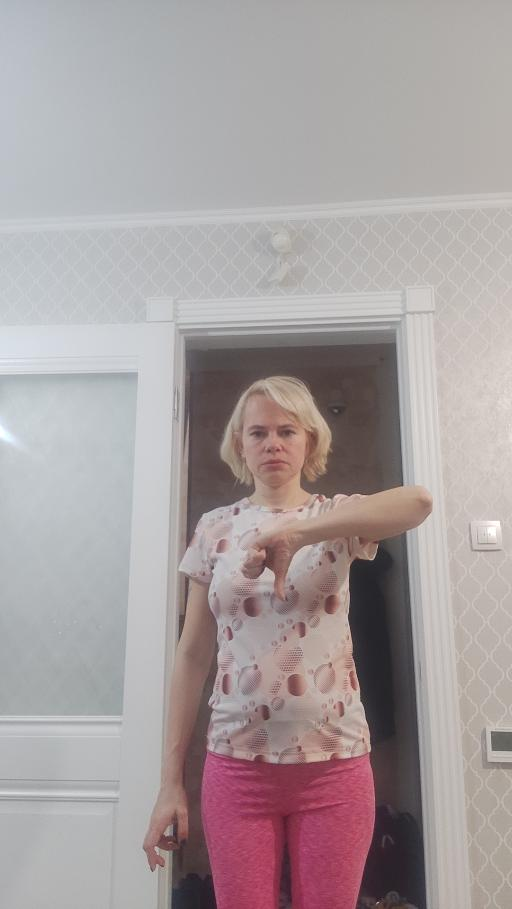dislike: (238, 522, 297, 603)
no_gesture: (138, 788, 190, 873)
